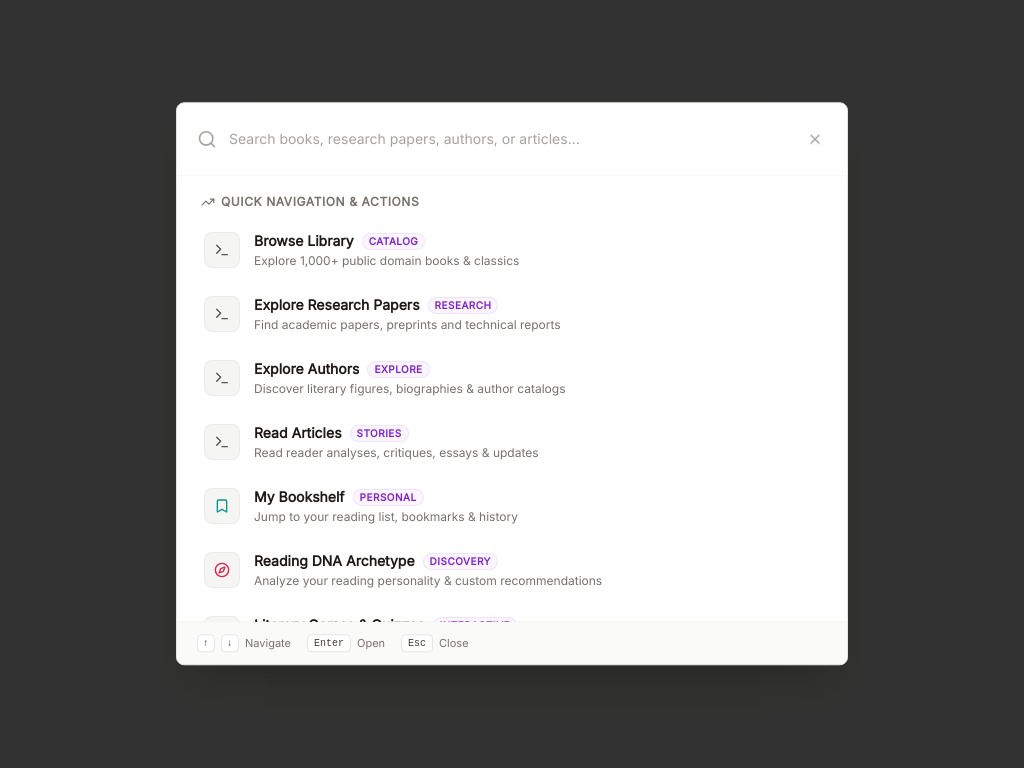
Scenario: EnhancedGlobalSearch Multi-Category Search › searches books, authors, and articles with relevance ranking and category tabs
This screenshot has width=1024, height=768.
Type query
Type "Premchand" into the field with placeholder "Search books, research papers, authors, or articles..." at (516,139), box left=229, top=119, right=803, bottom=159
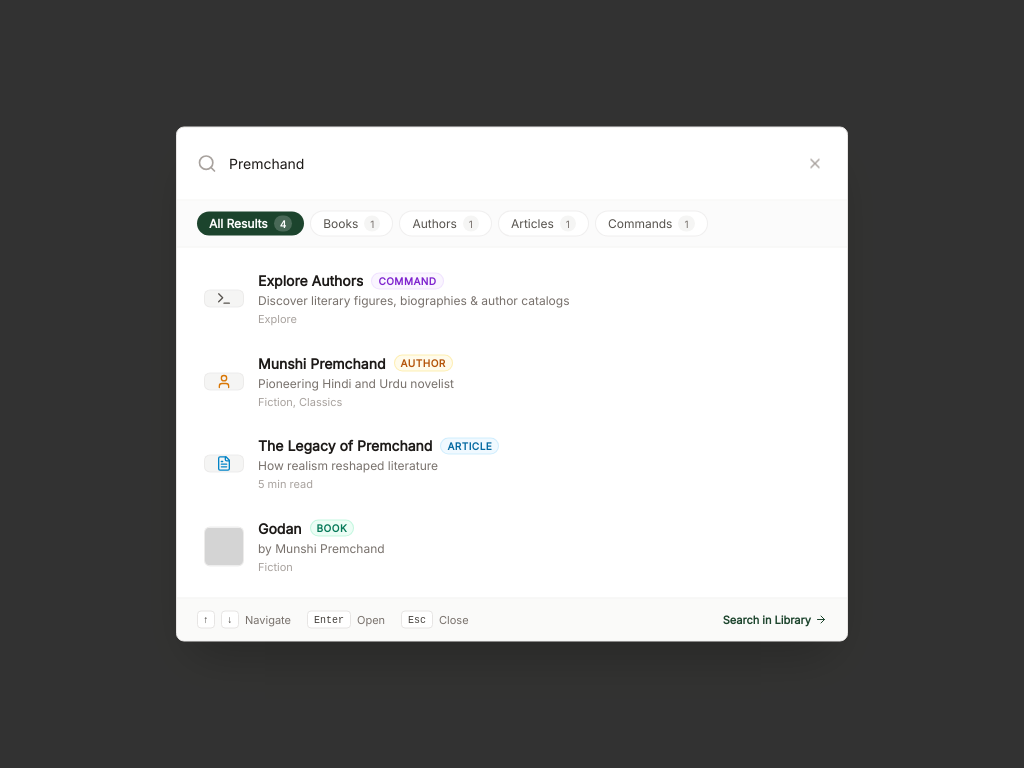
Result: the text "Godan" is shown at left=258, top=518, right=302, bottom=538
Result: the text "Munshi Premchand" is shown at left=258, top=353, right=386, bottom=373
Result: the text "The Legacy of Premchand" is shown at left=258, top=436, right=432, bottom=456
Click "Books" filter tab
Click the button "Books 1" at (352,224), box left=310, top=210, right=393, bottom=236
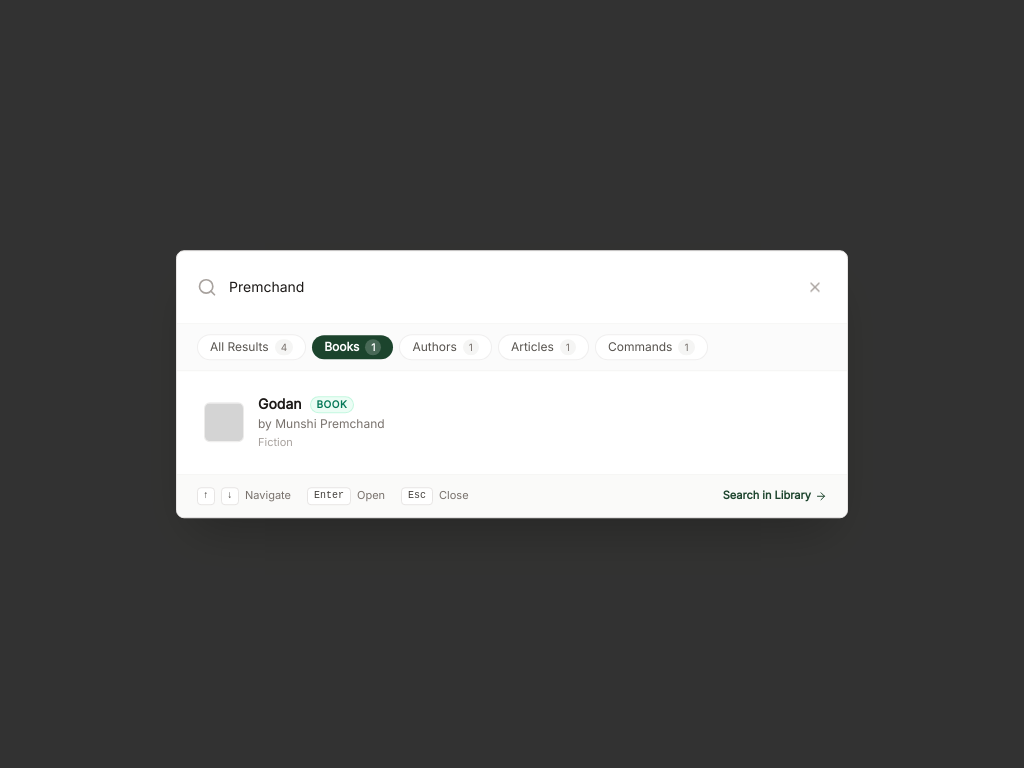
Result: the text "Godan" is shown at left=258, top=394, right=302, bottom=414
Result: the button "The Legacy of Premchand" is gone
Click "Authors" filter tab
Click the button "Authors 1" at (446,347), box left=399, top=334, right=492, bottom=360
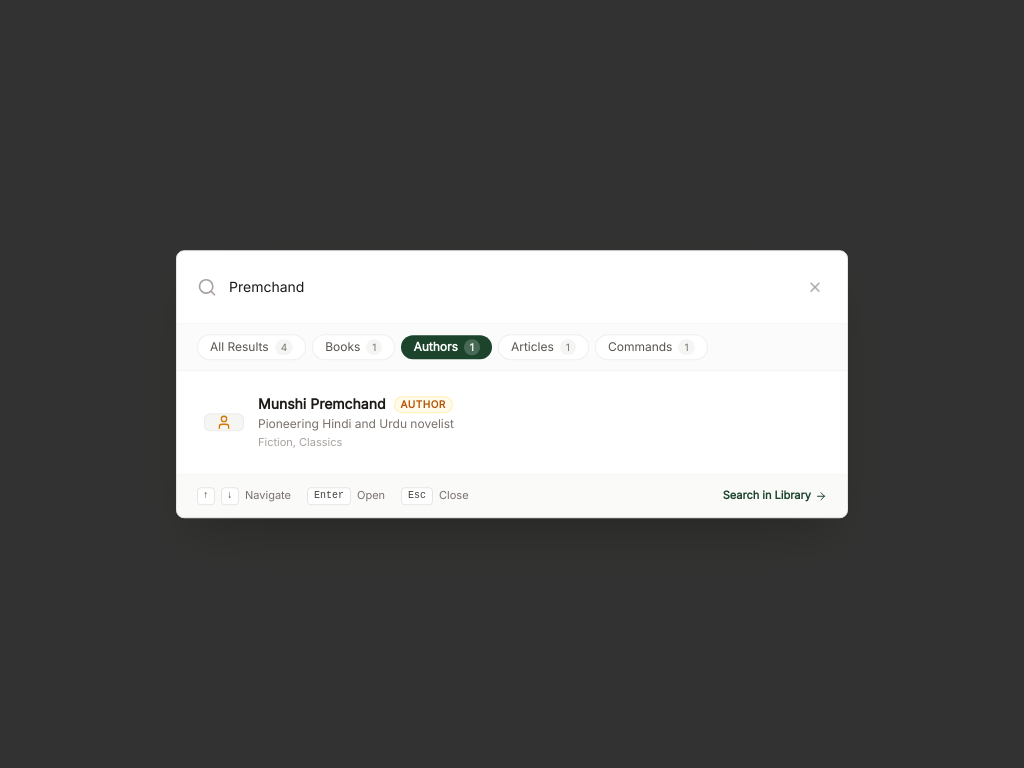
Result: the text "Munshi Premchand" is shown at left=258, top=394, right=386, bottom=414
Result: the button "Godan" is gone
